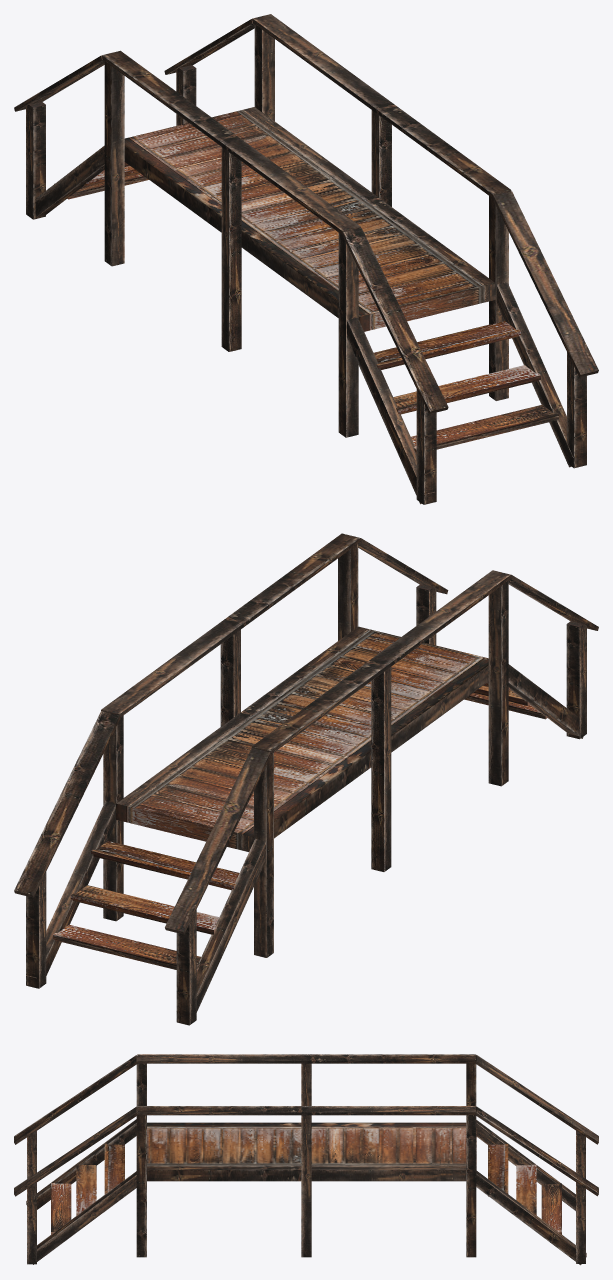
Rendered from Bridge.fbx.
The picture shows the model from 3 angles, top to bottom: view 1: azimuth 30°, elevation 25°; view 2: azimuth 150°, elevation 25°; view 3: azimuth 270°, elevation 25°; orthographic projection. The views are drawn at different scales.
Parts seen in each view (by area): view 1: Box001; view 2: Box001; view 3: Box001.
Boxes of the visible parts, x1,y1,x2,y2 form: Box001: [14, 14, 598, 504]; Box001: [14, 533, 598, 1025]; Box001: [14, 1054, 598, 1265].
Bounding box in the file's own units: 1.61 × 1.99 × 6.83.
1 material, 1 textured.
